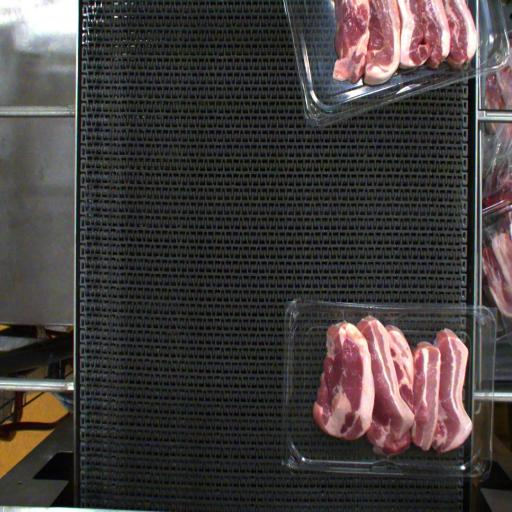packaging-error: (333, 306, 350, 324), (366, 308, 377, 318)
